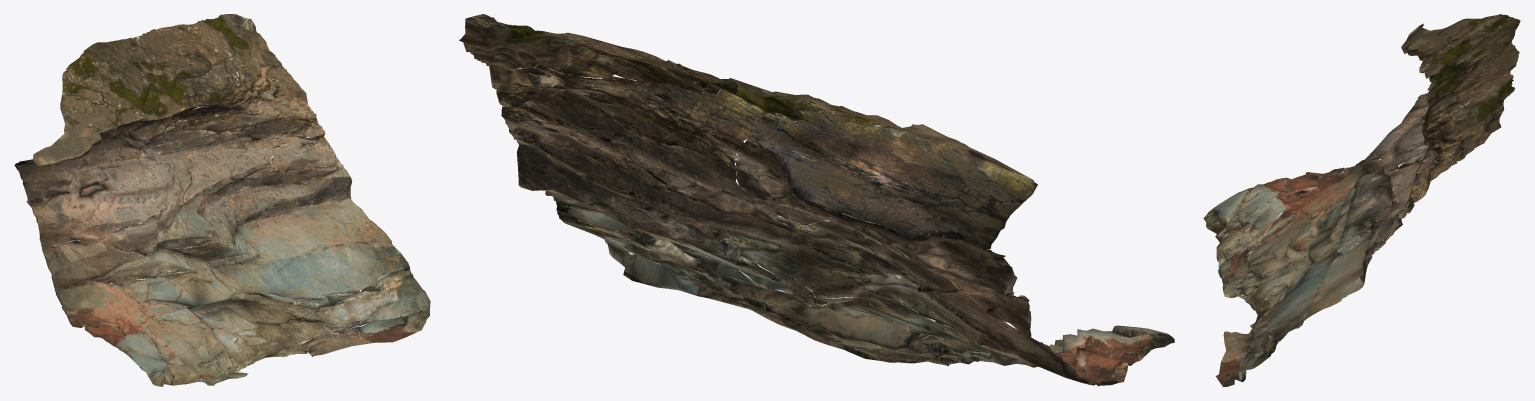
Rendered from rock_face_01_LOD1.fbx.
3 renders of one model, left to right at view 1: azimuth 30°, elevation 25°; view 2: azimuth 150°, elevation 25°; view 3: azimuth 270°, elevation 25°, orthographic. The views are drawn at different scales.
Parts seen in each view (by area): view 1: rock_face_01.001; view 2: rock_face_01.001; view 3: rock_face_01.001.
Boxes of the visible parts, x1,y1,x2,y2 form: rock_face_01.001: (14,14,430,386); rock_face_01.001: (459,14,1174,386); rock_face_01.001: (1203,14,1520,386).
Size of the model in its own units: 4.95 by 3.83 by 3.57.
